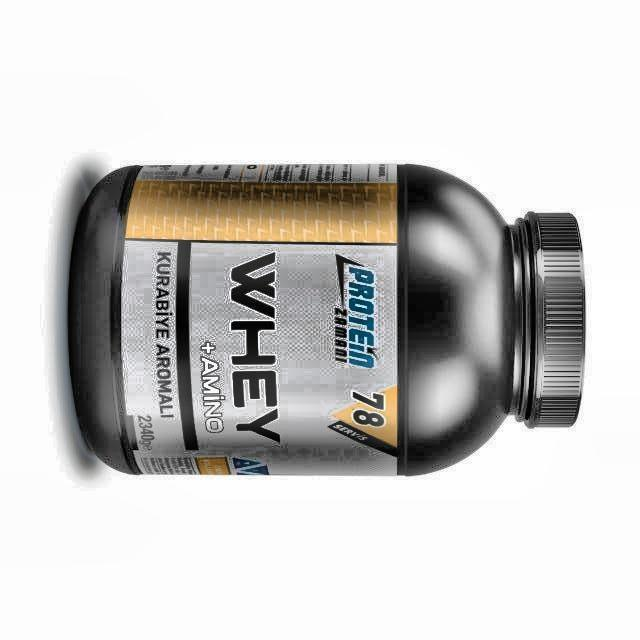plastic: (67, 164, 585, 474)
